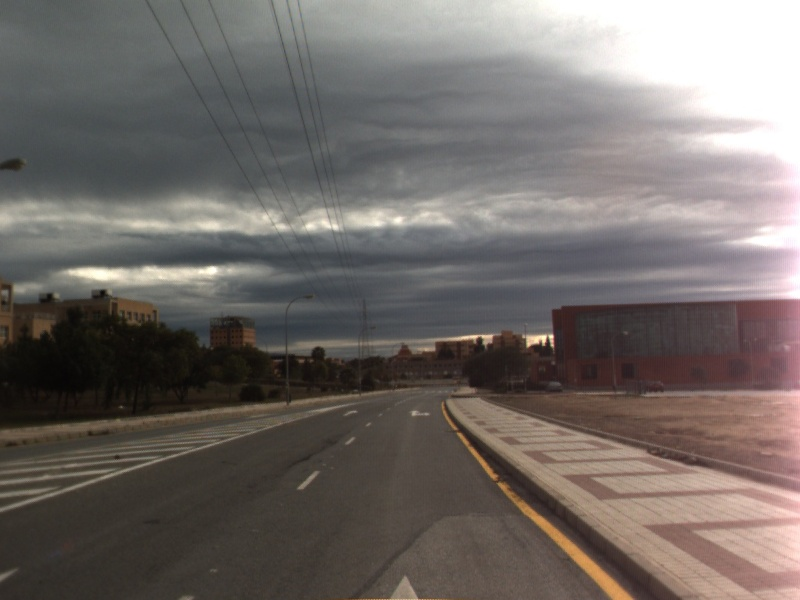STRAIGHT: (340, 407, 361, 418)
STRAIGHT_RIGHT: (406, 407, 434, 419)
